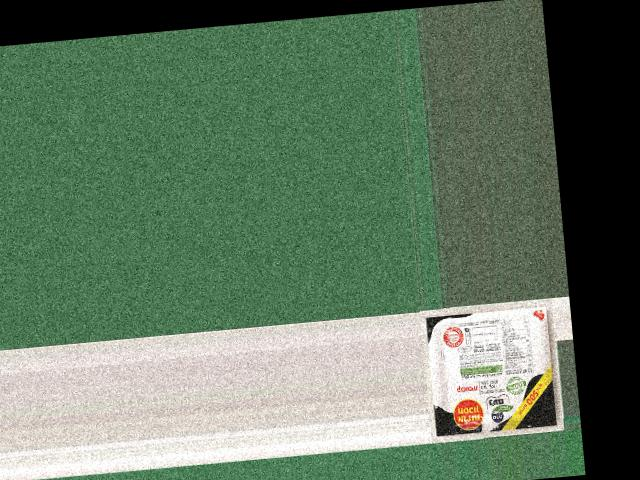cheese: (424, 309, 563, 433)
